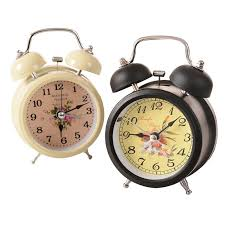alarm_clock: (15, 21, 216, 193)
